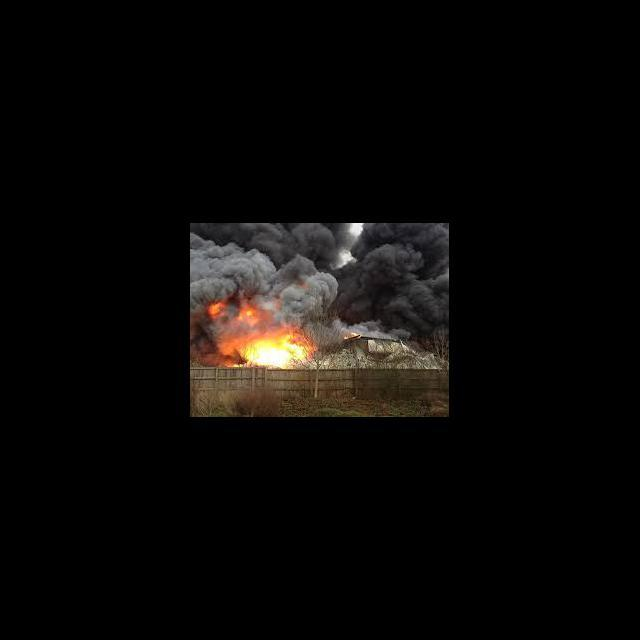Fire: (248, 334, 314, 366), (206, 299, 224, 318), (240, 308, 256, 324), (342, 332, 361, 342)
Smoke: (191, 224, 360, 298), (361, 223, 448, 337), (279, 297, 360, 329), (190, 321, 220, 362), (192, 299, 206, 319)
